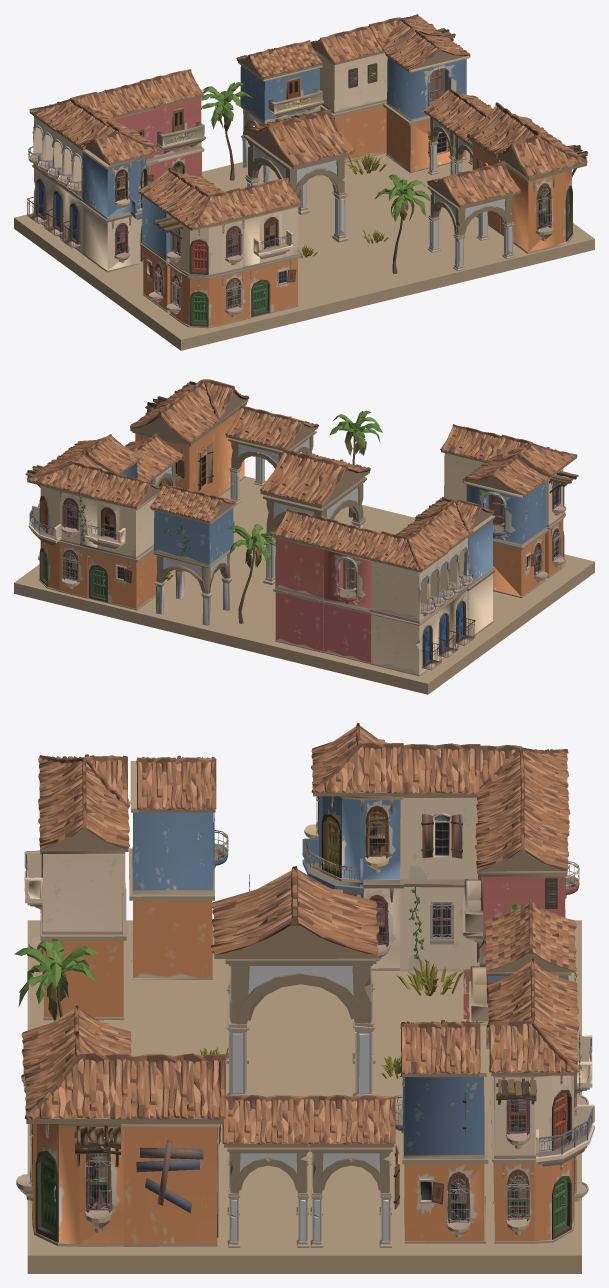
The model's file is businessman.fbx.
3 renders of one model, top to bottom at view 1: azimuth 30°, elevation 25°; view 2: azimuth 150°, elevation 25°; view 3: azimuth 270°, elevation 25°, orthographic. The views are drawn at different scales.
Visible parts, largest first — view 1: Ground.001, SM_Prop_Window_12, SM_Bld_Cuba_Room_05_1.001, SM_Bld_Cuba_Roof_01_3.005, SM_Bld_Cuba_Room_06_1, SM_Bld_Cuba_Room_03_3.001, SM_Bld_Cuba_Room_02_1, SM_Bld_Cuba_Room_04_1, SM_Bld_Cuba_Room_03_1, SM_Bld_Cuba_Arch_02_1.003, SM_Bld_Cuba_Arch_02_1.002, SM_Bld_Cuba_Room_07_1 (+30 smaller); view 2: Ground.001, SM_Prop_Window_12, SM_Bld_Cuba_Room_Long_03, SM_Bld_Cuba_Room_Long_05_1, SM_Bld_Cuba_Roof_01_3.005, SM_Bld_Cuba_Room_07_1, SM_Bld_Cuba_Room_04_3, SM_Bld_Cuba_Room_06_1, SM_Bld_Cuba_Room_02_1.001, SM_Bld_Cuba_Room_05_2.001, SM_Bld_Cuba_Room_07_2, SM_Bld_Cuba_Room_06_4 (+29 smaller); view 3: Ground.001, SM_Prop_Window_12, SM_Bld_Cuba_Roof_01_3.005, SM_Bld_Cuba_Arch_02_1.003, SM_Bld_Cuba_Room_07_1.001, SM_Bld_Cuba_Room_02_1.001, SM_Bld_Cuba_Room_02_1, SM_Bld_Cuba_Room_05_2.001, SM_Bld_Cuba_Room_05_2, SM_Bld_Cuba_Room_04_1, SM_Bld_Cuba_Room_05_1, SM_Bld_Cuba_Roof_04_4 (+31 smaller).
Part boxes in pixels (left/top/right/bottom): Ground.001: left=14, top=150, right=594, bottom=350; SM_Prop_Window_12: left=466, top=102, right=587, bottom=253; SM_Bld_Cuba_Room_05_1.001: left=166, top=263, right=252, bottom=328; SM_Bld_Cuba_Roof_01_3.005: left=243, top=109, right=354, bottom=168; SM_Bld_Cuba_Room_06_1: left=238, top=61, right=323, bottom=123; SM_Bld_Cuba_Room_03_3.001: left=166, top=216, right=244, bottom=276; SM_Bld_Cuba_Room_02_1: left=385, top=51, right=469, bottom=121; SM_Bld_Cuba_Room_04_1: left=80, top=149, right=147, bottom=219; SM_Bld_Cuba_Room_03_1: left=80, top=201, right=143, bottom=272; SM_Bld_Cuba_Arch_02_1.003: left=244, top=135, right=347, bottom=242; SM_Bld_Cuba_Arch_02_1.002: left=427, top=186, right=515, bottom=271; SM_Bld_Cuba_Room_07_1: left=313, top=48, right=387, bottom=113; Ground.001: left=14, top=476, right=594, bottom=694; SM_Prop_Window_12: left=130, top=379, right=249, bottom=496; SM_Bld_Cuba_Room_Long_03: left=369, top=589, right=475, bottom=676; SM_Bld_Cuba_Room_Long_05_1: left=370, top=537, right=473, bottom=623; SM_Bld_Cuba_Roof_01_3.005: left=260, top=449, right=370, bottom=508; SM_Bld_Cuba_Room_07_1: left=78, top=491, right=159, bottom=559; SM_Bld_Cuba_Room_04_3: left=78, top=546, right=157, bottom=610; SM_Bld_Cuba_Room_06_1: left=152, top=503, right=235, bottom=566; SM_Bld_Cuba_Room_02_1.001: left=464, top=476, right=548, bottom=547; SM_Bld_Cuba_Room_05_2.001: left=493, top=528, right=548, bottom=597; SM_Bld_Cuba_Room_07_2: left=273, top=588, right=324, bottom=653; SM_Bld_Cuba_Room_06_4: left=273, top=535, right=324, bottom=600; Ground.001: left=27, top=920, right=581, bottom=1273; SM_Prop_Window_12: left=16, top=1031, right=225, bottom=1246; SM_Bld_Cuba_Roof_01_3.005: left=210, top=866, right=379, bottom=958; SM_Bld_Cuba_Arch_02_1.003: left=225, top=958, right=376, bottom=1096; SM_Bld_Cuba_Room_07_1.001: left=24, top=849, right=124, bottom=934; SM_Bld_Cuba_Room_02_1.001: left=130, top=761, right=228, bottom=894; SM_Bld_Cuba_Room_02_1: left=394, top=1025, right=486, bottom=1159; SM_Bld_Cuba_Room_05_2.001: left=129, top=848, right=214, bottom=980; SM_Bld_Cuba_Room_05_2: left=402, top=1112, right=488, bottom=1243; SM_Bld_Cuba_Room_04_1: left=304, top=796, right=404, bottom=883; SM_Bld_Cuba_Room_05_1: left=491, top=1111, right=588, bottom=1243; SM_Bld_Cuba_Roof_04_4: left=487, top=996, right=578, bottom=1075.
Bounding box in the file's own units: 79.75 × 25.22 × 56.74.
5 materials, 4 textured.
